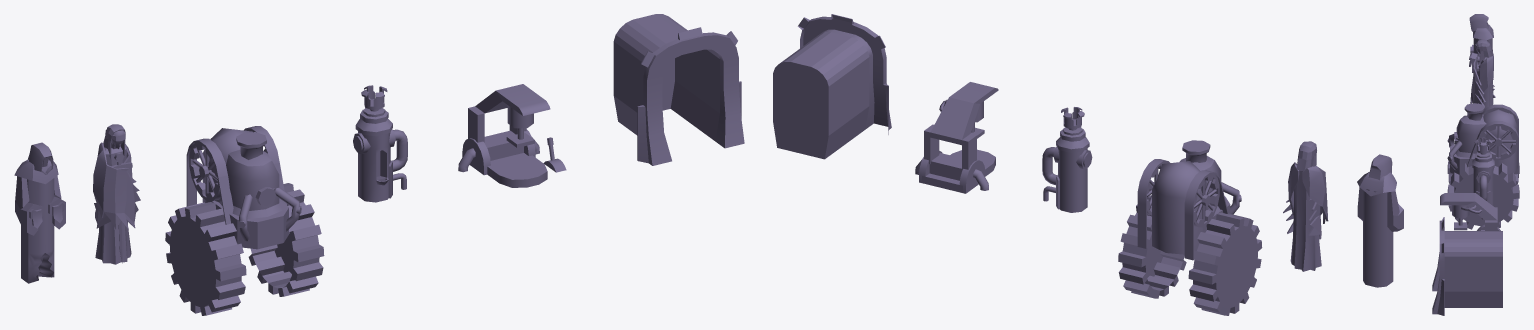
File: Decoracion agrupacion 2.fbx
3 renders of one model, left to right at view 1: azimuth 30°, elevation 25°; view 2: azimuth 150°, elevation 25°; view 3: azimuth 270°, elevation 25°, orthographic. The views are drawn at different scales.
Parts seen in each view (by area): view 1: Motor_mediano, Tunel_vias, Prensa, Estatua_cultista, Estatua_angel, Horno; view 2: Motor_mediano, Tunel_vias, Prensa, Estatua_cultista, Estatua_angel, Horno; view 3: Motor_mediano, Tunel_vias, Prensa, Estatua_angel, Horno, Estatua_cultista.
Part boxes in pixels (x1,y1,x2,y2): Motor_mediano: (165,126,324,315); Tunel_vias: (613,14,744,165); Prensa: (458,84,566,187); Estatua_cultista: (14,142,65,283); Estatua_angel: (93,124,140,264); Horno: (353,85,407,202); Motor_mediano: (1118,140,1262,315); Tunel_vias: (773,14,891,159); Prensa: (915,82,998,193); Estatua_cultista: (1357,154,1403,287); Estatua_angel: (1283,141,1328,271); Horno: (1042,107,1092,212); Motor_mediano: (1447,103,1519,229); Tunel_vias: (1432,217,1502,315); Prensa: (1440,193,1500,230); Estatua_angel: (1470,39,1495,108); Horno: (1472,137,1494,219); Estatua_cultista: (1469,14,1493,100).
Bounding box in the file's own units: 26.82 × 7.61 × 4.48.
